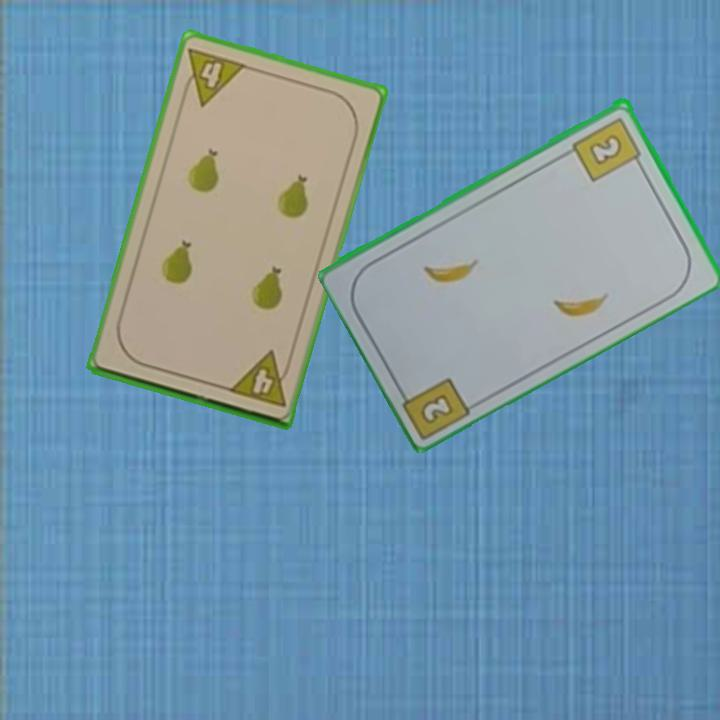2b: (569, 113, 646, 184), (417, 389, 457, 427)
4p: (176, 43, 249, 109), (224, 347, 295, 410)
